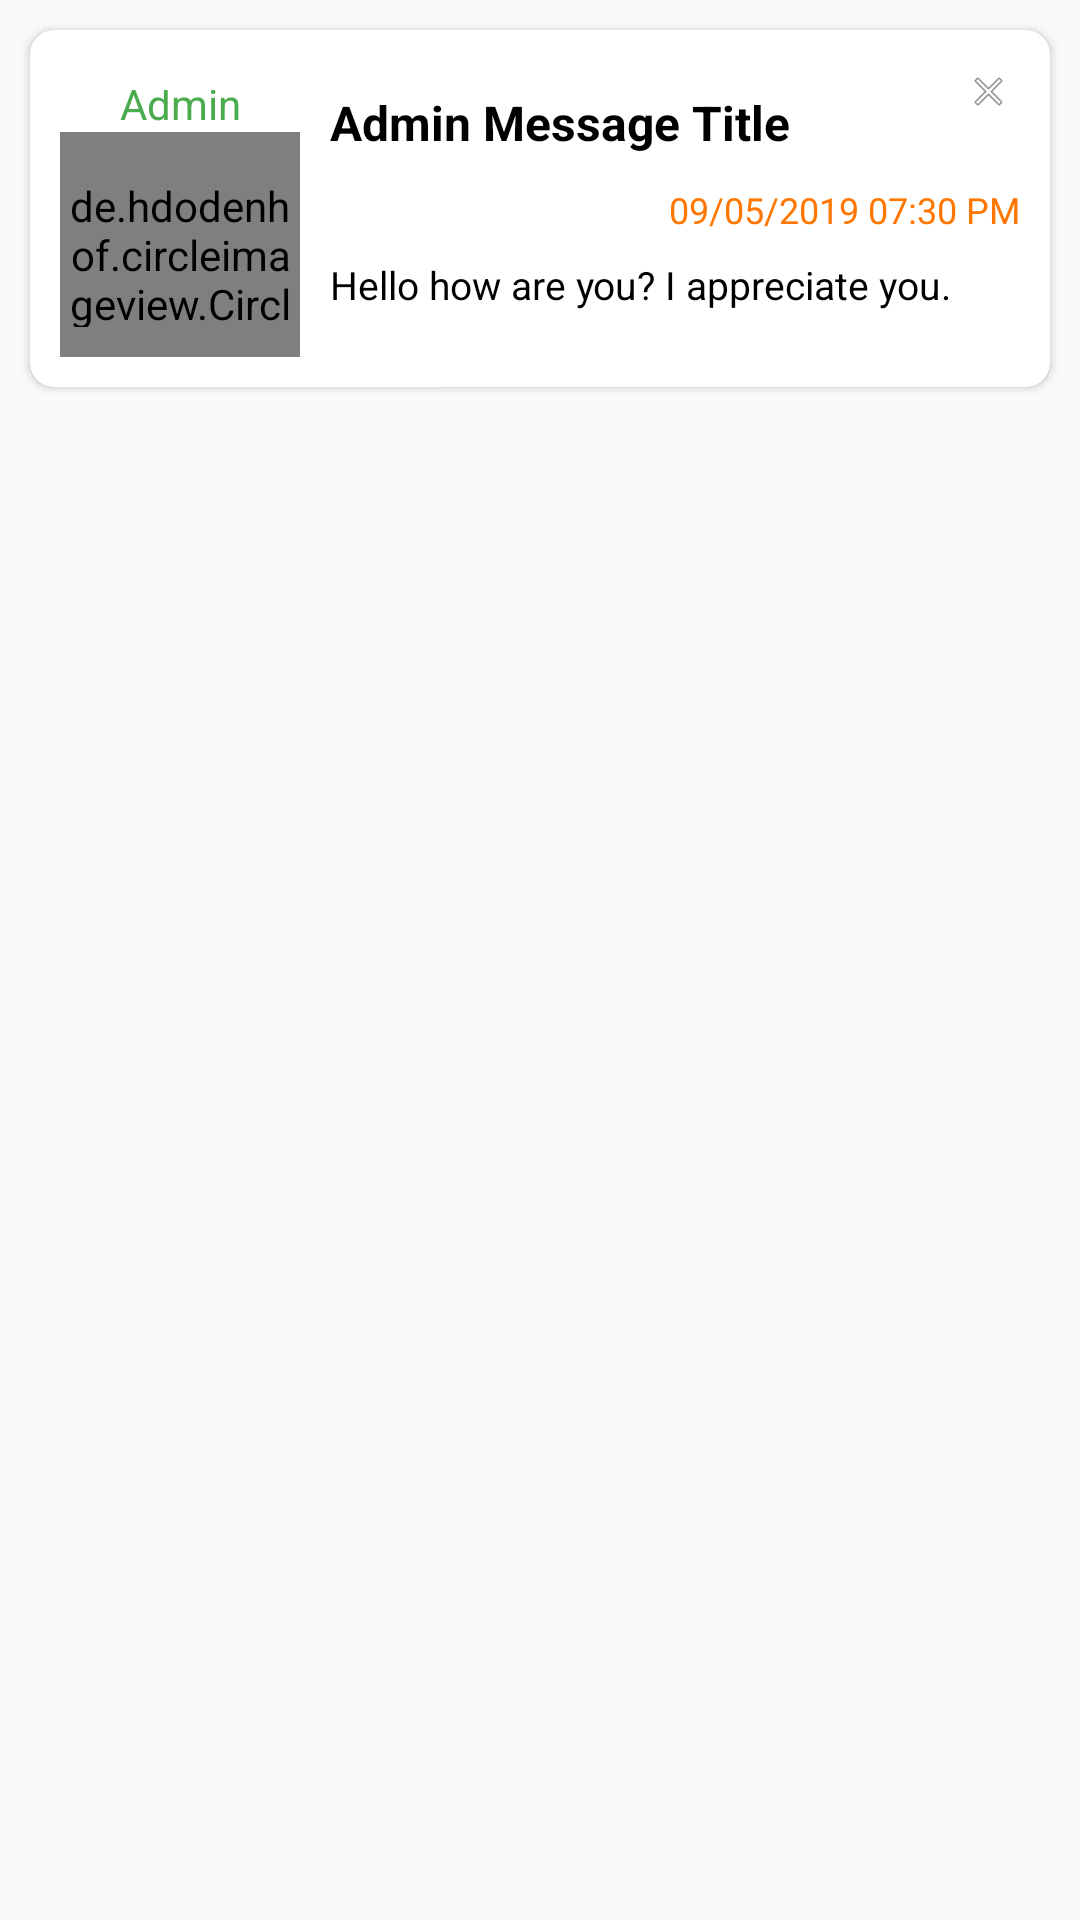

Icon click points for this 1080w x 1920h phone screenshot, format (x=x, y=y):
close clear cancel: (x=988, y=91)
